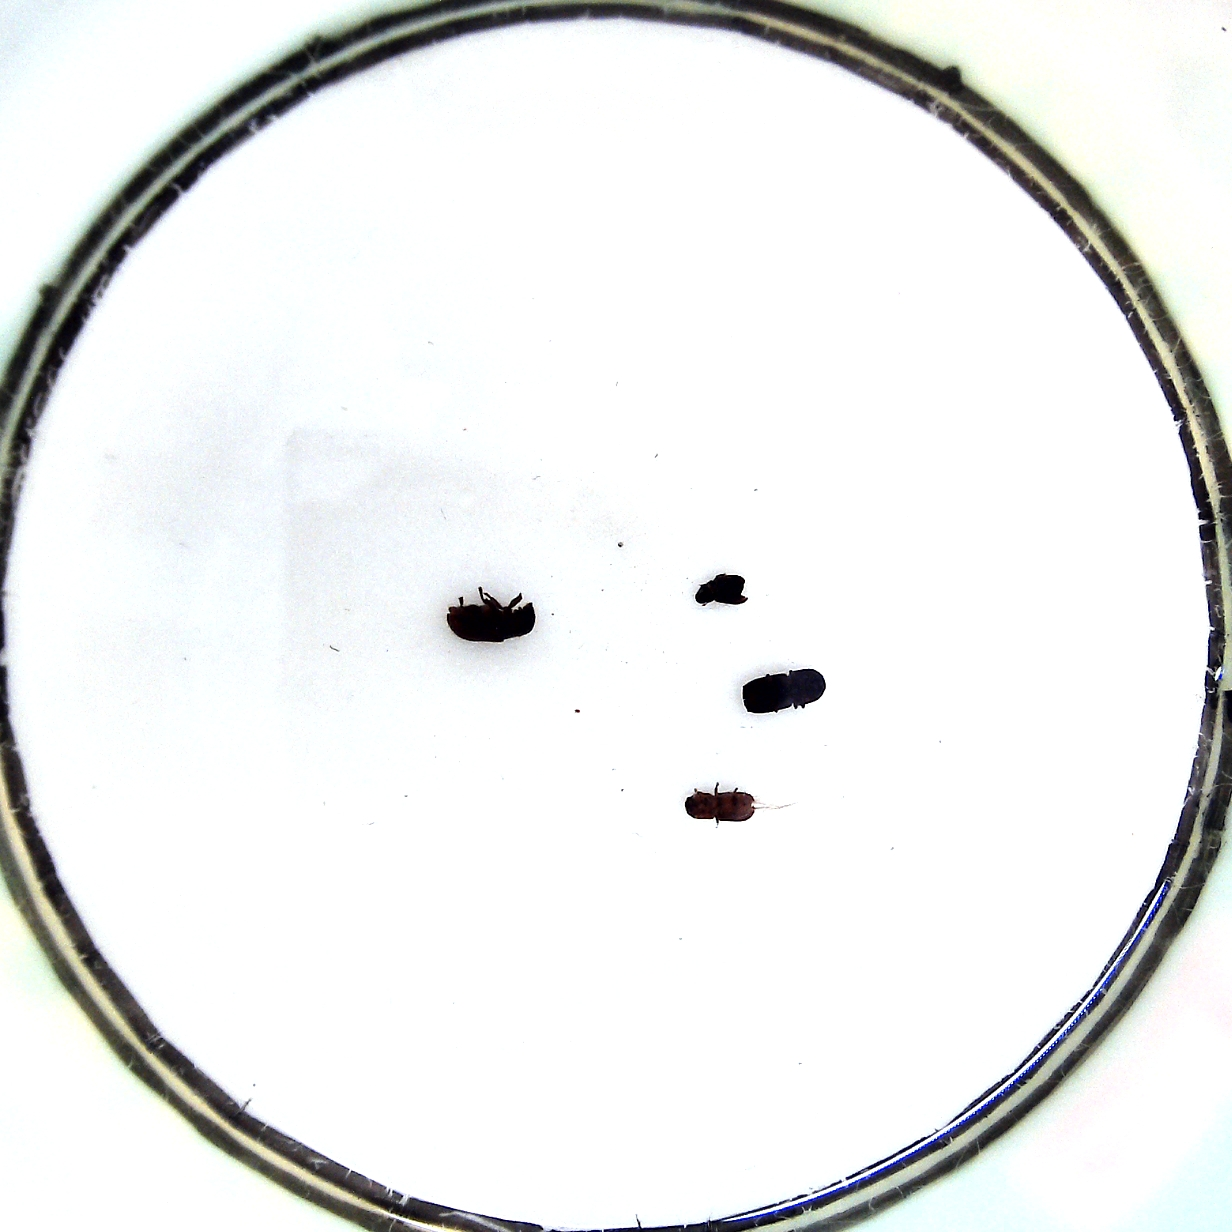Linnaeus: (739, 665, 833, 720)
acuminatus: (683, 782, 778, 826)
armandi: (442, 586, 542, 646)
coleoptera: (690, 572, 751, 611)
